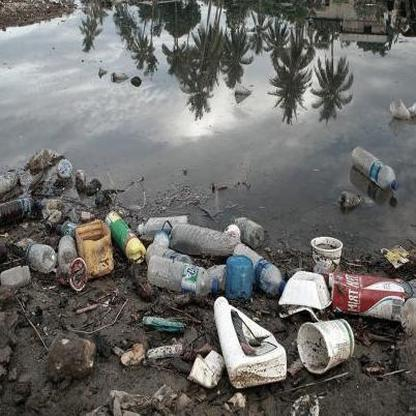foam: (278, 269, 332, 309)
plastic bottle: (294, 317, 355, 374), (148, 255, 219, 296), (234, 242, 286, 293), (350, 146, 399, 192), (173, 223, 236, 258), (25, 241, 59, 273), (336, 190, 375, 213), (1, 196, 31, 219)
